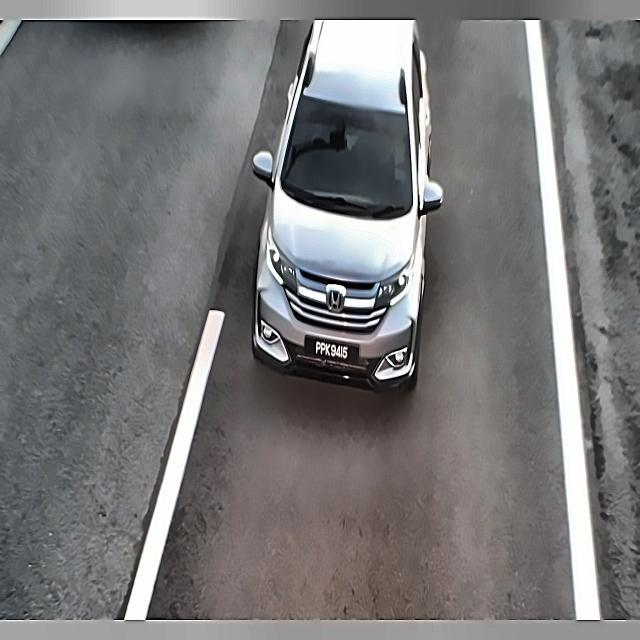car: (307, 331, 356, 369)
